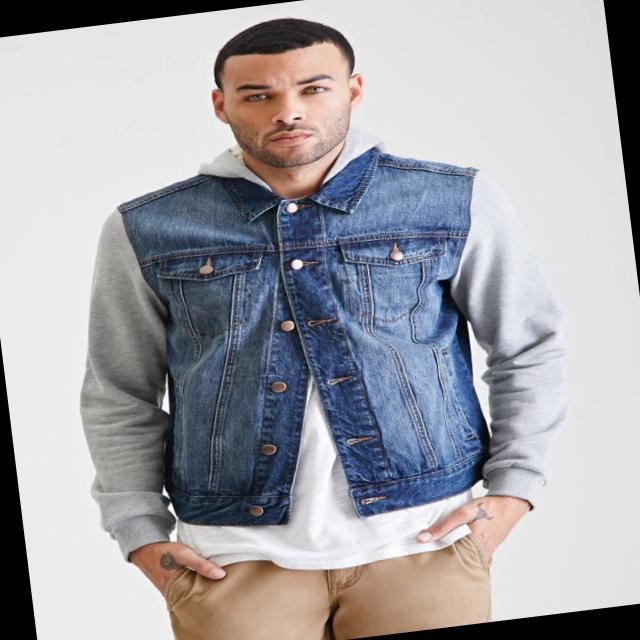Jacket: (54, 135, 586, 564)
